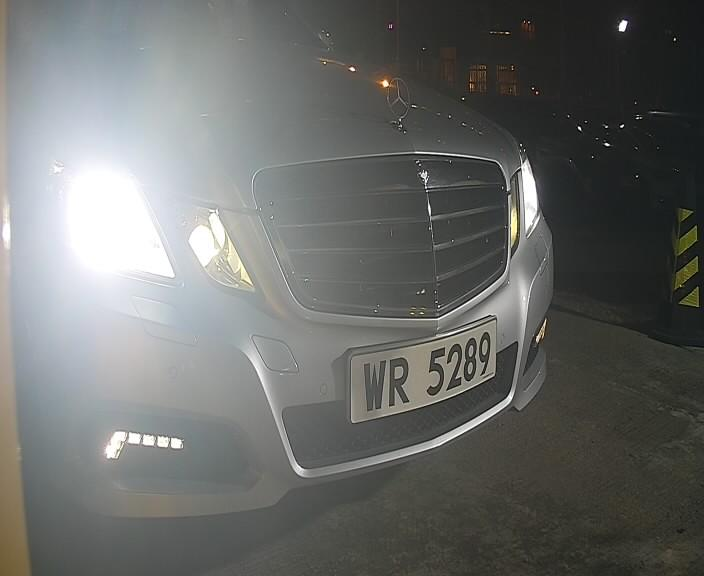License Plate: (343, 317, 494, 427)
